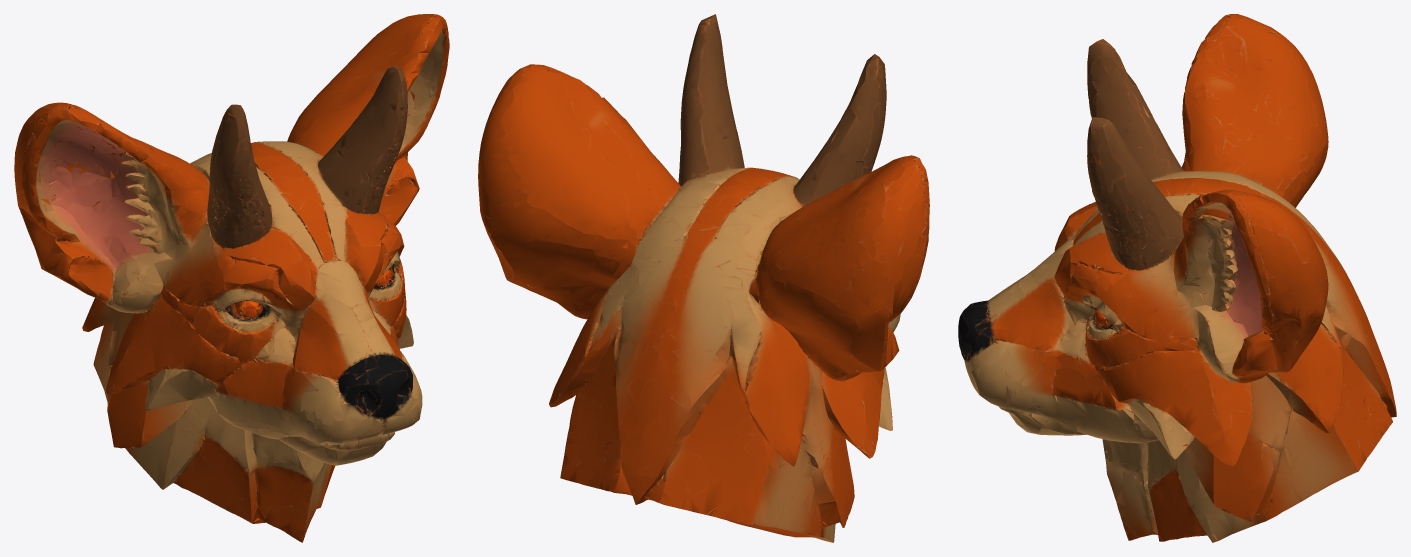
3 views of the same model, side by side, from view 1: azimuth 30°, elevation 25°; view 2: azimuth 150°, elevation 25°; view 3: azimuth 270°, elevation 25° (orthographic). The views are drawn at different scales.
Visible parts, largest first — view 1: world; view 2: world; view 3: world.
Boxes of the visible parts, <box> form: world: <box>14,14,449,542</box>; world: <box>478,14,929,542</box>; world: <box>958,14,1396,542</box>.
Bounding box in the file's own units: 0.9415 × 0.9994 × 0.8587.
Materials: 1 (1 with a texture image).
